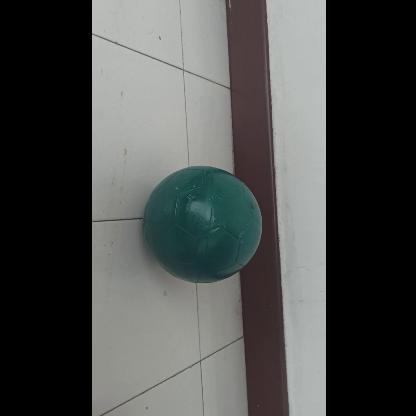green_ball: (144, 166, 263, 286)
